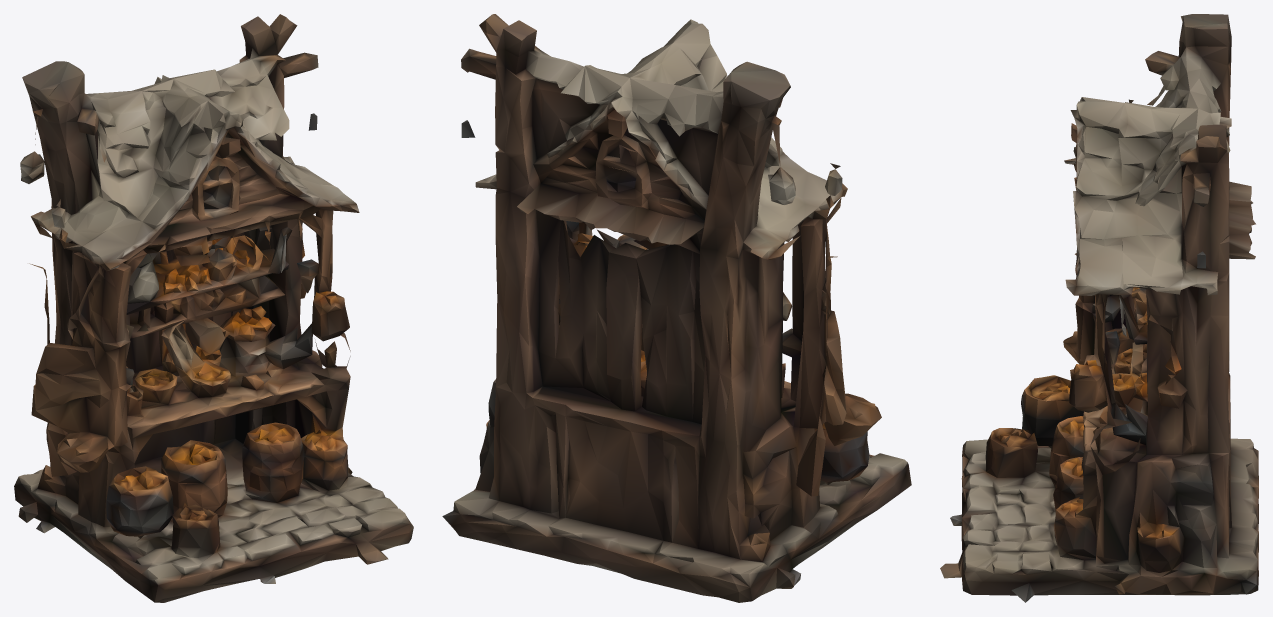
File: lib_stall_timber.vc.glb
3 renders of one model, left to right at view 1: azimuth 30°, elevation 25°; view 2: azimuth 150°, elevation 25°; view 3: azimuth 270°, elevation 25°, orthographic. The views are drawn at different scales.
Visible parts, largest first — view 1: lib_stall_timber; view 2: lib_stall_timber; view 3: lib_stall_timber.
Part boxes in pixels (x1=…): lib_stall_timber: x1=14, y1=14, x2=413, y2=602; lib_stall_timber: x1=442, y1=14, x2=911, y2=602; lib_stall_timber: x1=940, y1=14, x2=1258, y2=602.
Bounding box in the file's own units: 1.37 × 1.9 × 1.19.
